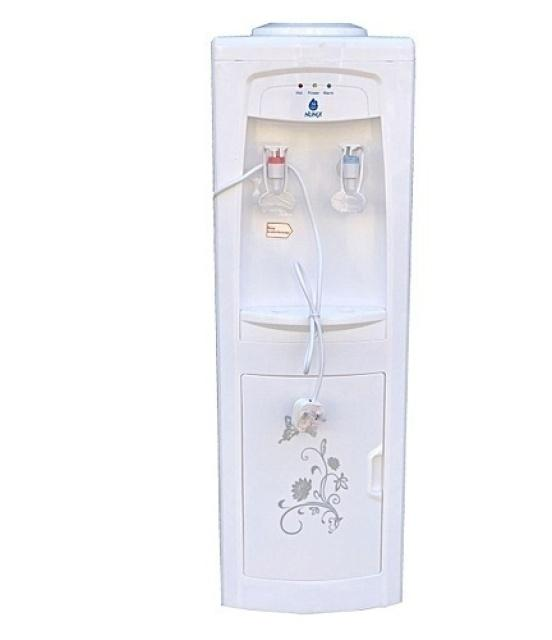Dispenser: (210, 22, 414, 612)
